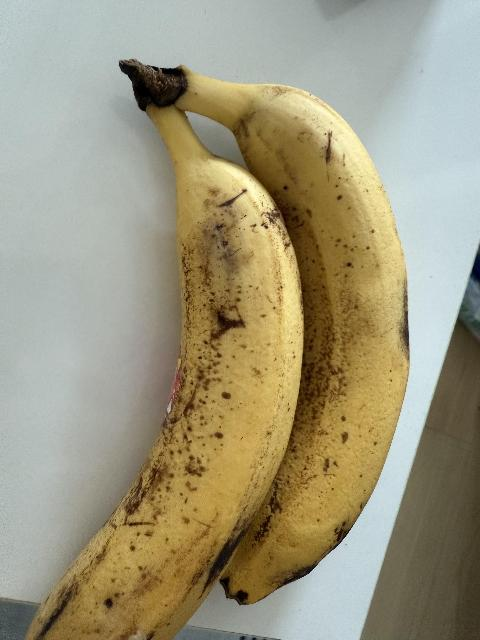Organik: (35, 56, 414, 640)
